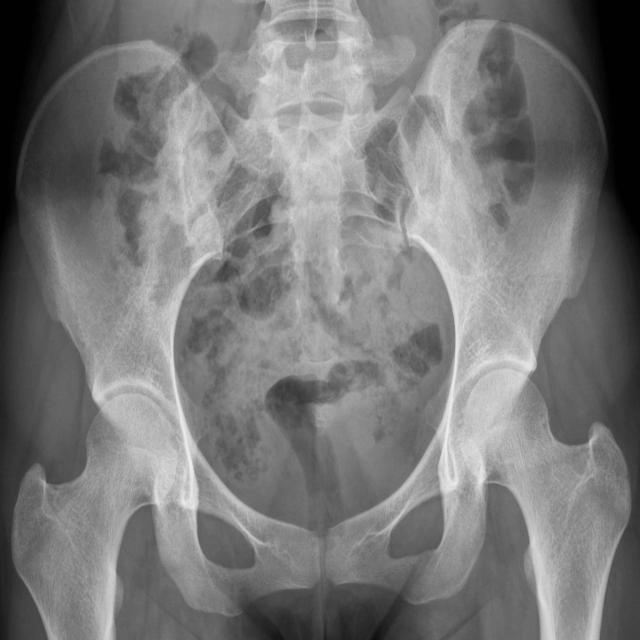normal-left: (460, 369, 632, 640)
normal-right: (12, 392, 178, 640)
